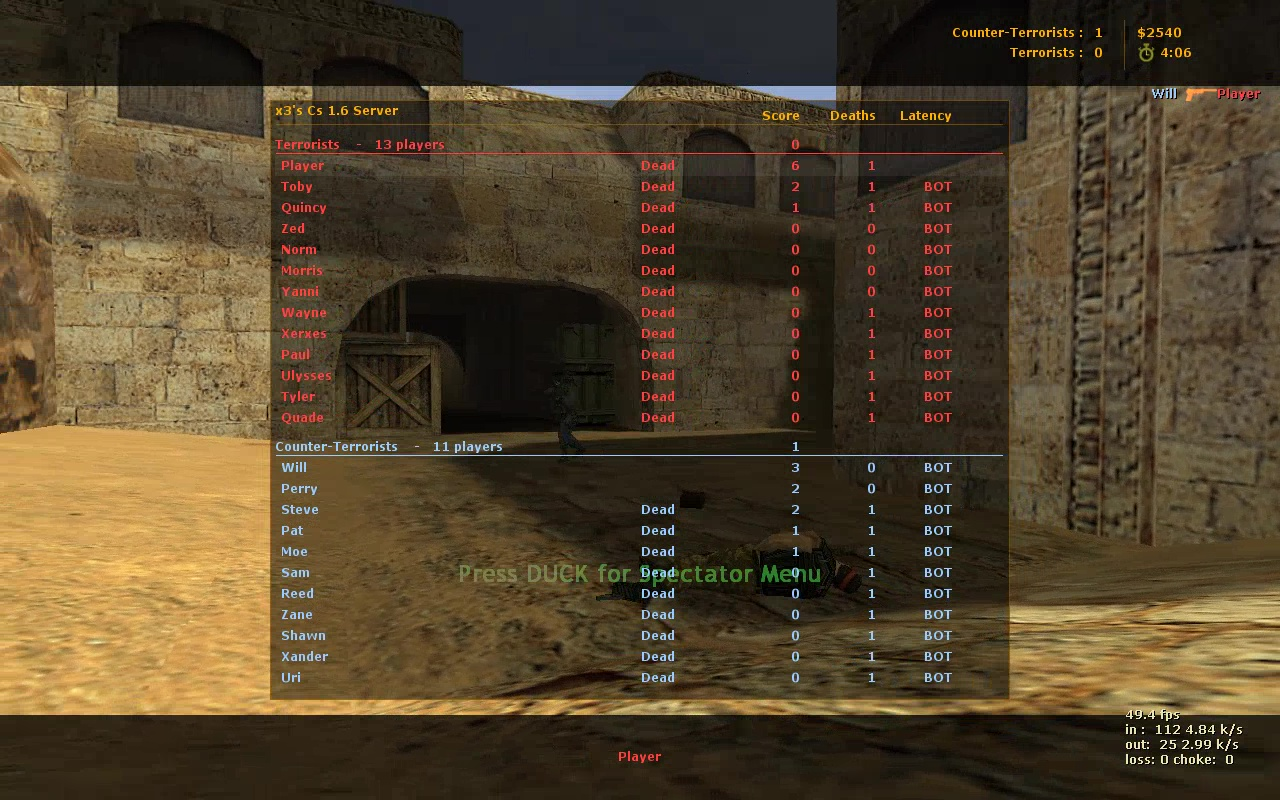ct: (544, 379, 592, 456)
dead: (612, 527, 861, 615)
